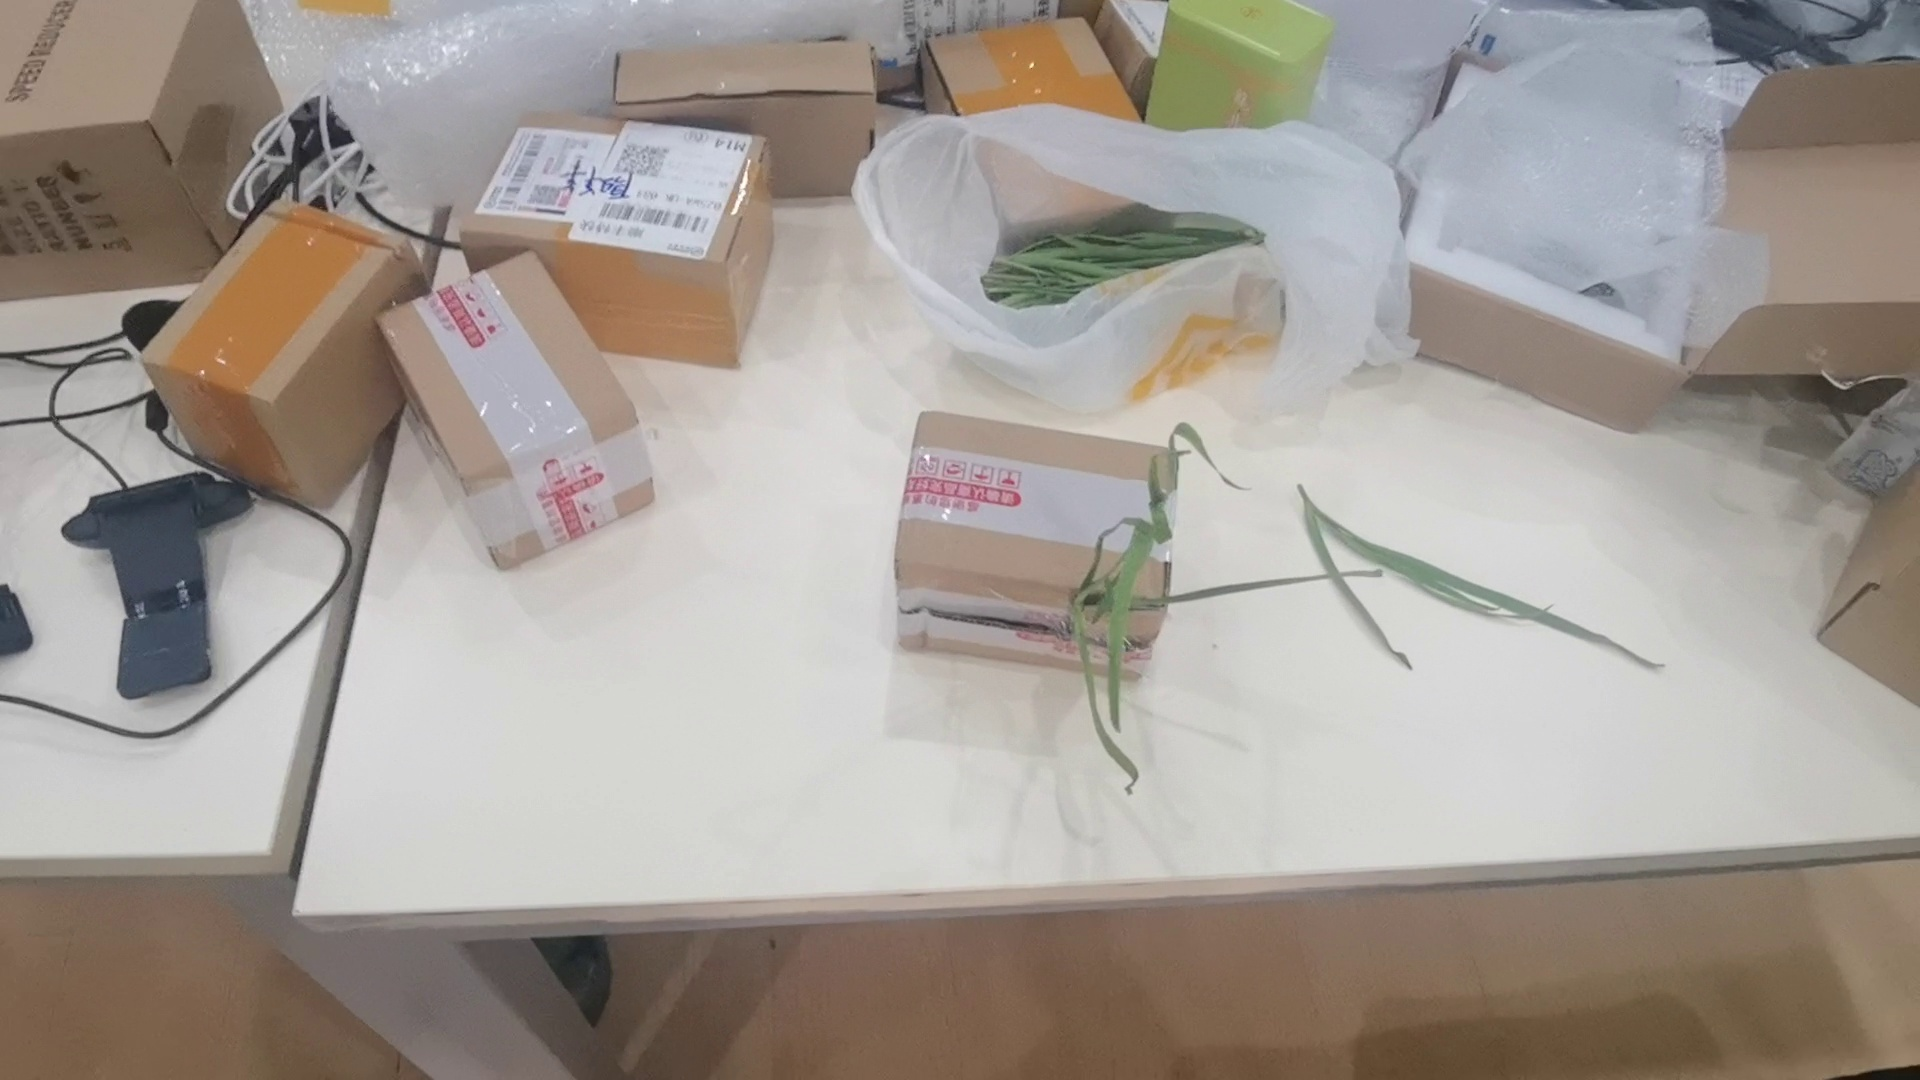chives: (1027, 415, 1406, 783), (1276, 472, 1688, 694)
